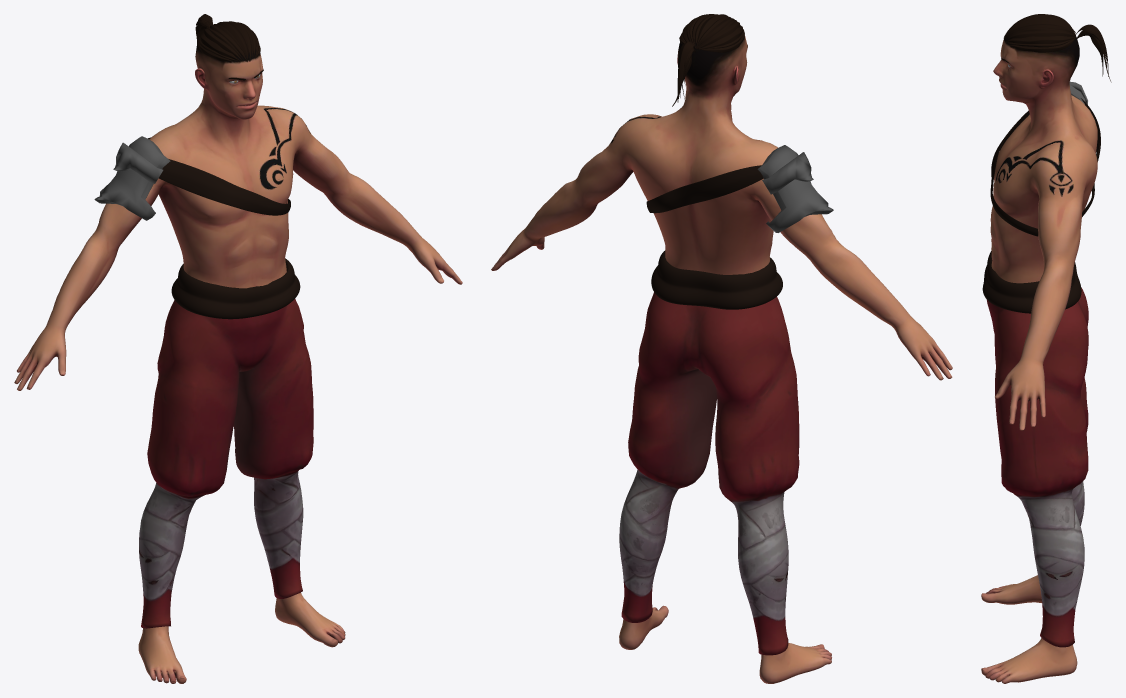
File: stylized_warrior.glb
The picture shows the model from 3 angles, left to right: view 1: azimuth 30°, elevation 25°; view 2: azimuth 150°, elevation 25°; view 3: azimuth 270°, elevation 25°; orthographic projection. The views are drawn at different scales.
Visible parts, largest first — view 1: Body2_Body_0, Trousers_Material.002_0, strap_1_Material.004_0, Shoulder_pad_Material.006_0, Hair_Material_0; view 2: Trousers_Material.002_0, Body2_Body_0, strap_1_Material.004_0, Shoulder_pad_Material.006_0, Hair_Material_0; view 3: Body2_Body_0, Trousers_Material.002_0, strap_1_Material.004_0, Hair_Material_0, Shoulder_pad_Material.006_0.
Part boxes in pixels (<box>): Body2_Body_0: <box>14,45,462,683</box>; Trousers_Material.002_0: <box>139,299,313,628</box>; strap_1_Material.004_0: <box>148,137,300,319</box>; Shoulder_pad_Material.006_0: <box>94,136,170,220</box>; Hair_Material_0: <box>195,14,263,80</box>; Trousers_Material.002_0: <box>619,292,799,655</box>; Body2_Body_0: <box>491,35,952,683</box>; strap_1_Material.004_0: <box>646,165,782,309</box>; Shoulder_pad_Material.006_0: <box>757,145,833,232</box>; Hair_Material_0: <box>672,14,747,106</box>; Body2_Body_0: <box>981,36,1097,683</box>; Trousers_Material.002_0: <box>986,287,1088,647</box>; strap_1_Material.004_0: <box>982,98,1100,313</box>; Hair_Material_0: <box>1001,14,1111,82</box>; Shoulder_pad_Material.006_0: <box>1069,81,1087,104</box>.
Size of the model in its own units: 5.4 by 7.21 by 1.37.
7 materials, 3 textured.
